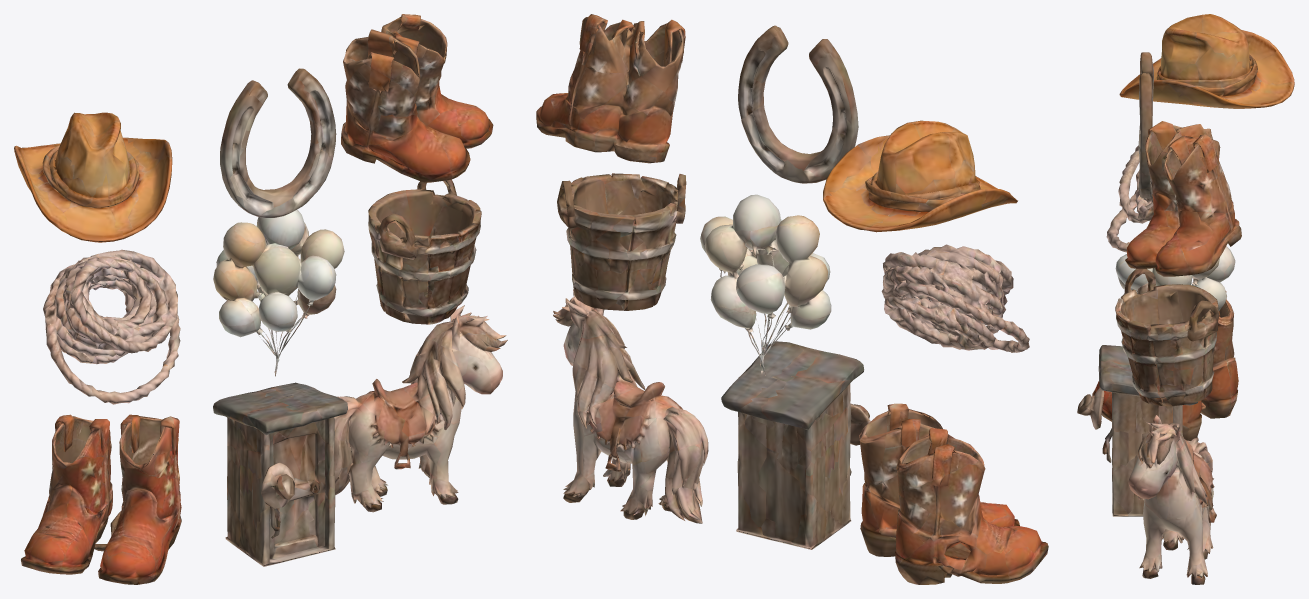
3 views of the same model, side by side, from view 1: azimuth 30°, elevation 25°; view 2: azimuth 150°, elevation 25°; view 3: azimuth 270°, elevation 25° (orthographic). The views are drawn at different scales.
Visible parts, largest first — view 1: Mesh 1, Mesh 7, Mesh 8, Mesh 9, Mesh 2, Mesh 3, Mesh 10, Mesh 5, Mesh 4; view 2: Mesh 7, Mesh 1, Mesh 8, Mesh 9, Mesh 2, Mesh 10, Mesh 5, Mesh 3, Mesh 4; view 3: Mesh 9, Mesh 2, Mesh 10, Mesh 8, Mesh 7, Mesh 1, Mesh 5, Mesh 3, Mesh 4.
Boxes of the visible parts, x1,y1,x2,y2 form: Mesh 1: (21,414,181,584); Mesh 7: (213,382,347,566); Mesh 8: (334,305,507,512); Mesh 9: (341,14,493,182); Mesh 2: (14,112,172,242); Mesh 3: (43,249,180,404); Mesh 10: (368,179,481,324); Mesh 5: (213,209,344,376); Mesh 4: (220,68,336,217); Mesh 7: (721,341,870,549); Mesh 1: (859,403,1048,584); Mesh 8: (553,289,708,523); Mesh 9: (536,14,685,163); Mesh 2: (823,120,1017,232); Mesh 10: (557,173,686,310); Mesh 5: (700,194,831,375); Mesh 3: (881,244,1029,352); Mesh 4: (738,25,858,183); Mesh 9: (1125,121,1241,276); Mesh 2: (1119,14,1294,108); Mesh 10: (1115,269,1218,406); Mesh 8: (1128,415,1216,584); Mesh 7: (1077,345,1197,516); Mesh 1: (1092,291,1238,440); Mesh 5: (1115,246,1235,310); Mesh 3: (1106,145,1153,252); Mesh 4: (1138,52,1153,198).
Size of the model in its own units: 1.9 by 1.82 by 0.8188.
9 materials, 9 textured.
